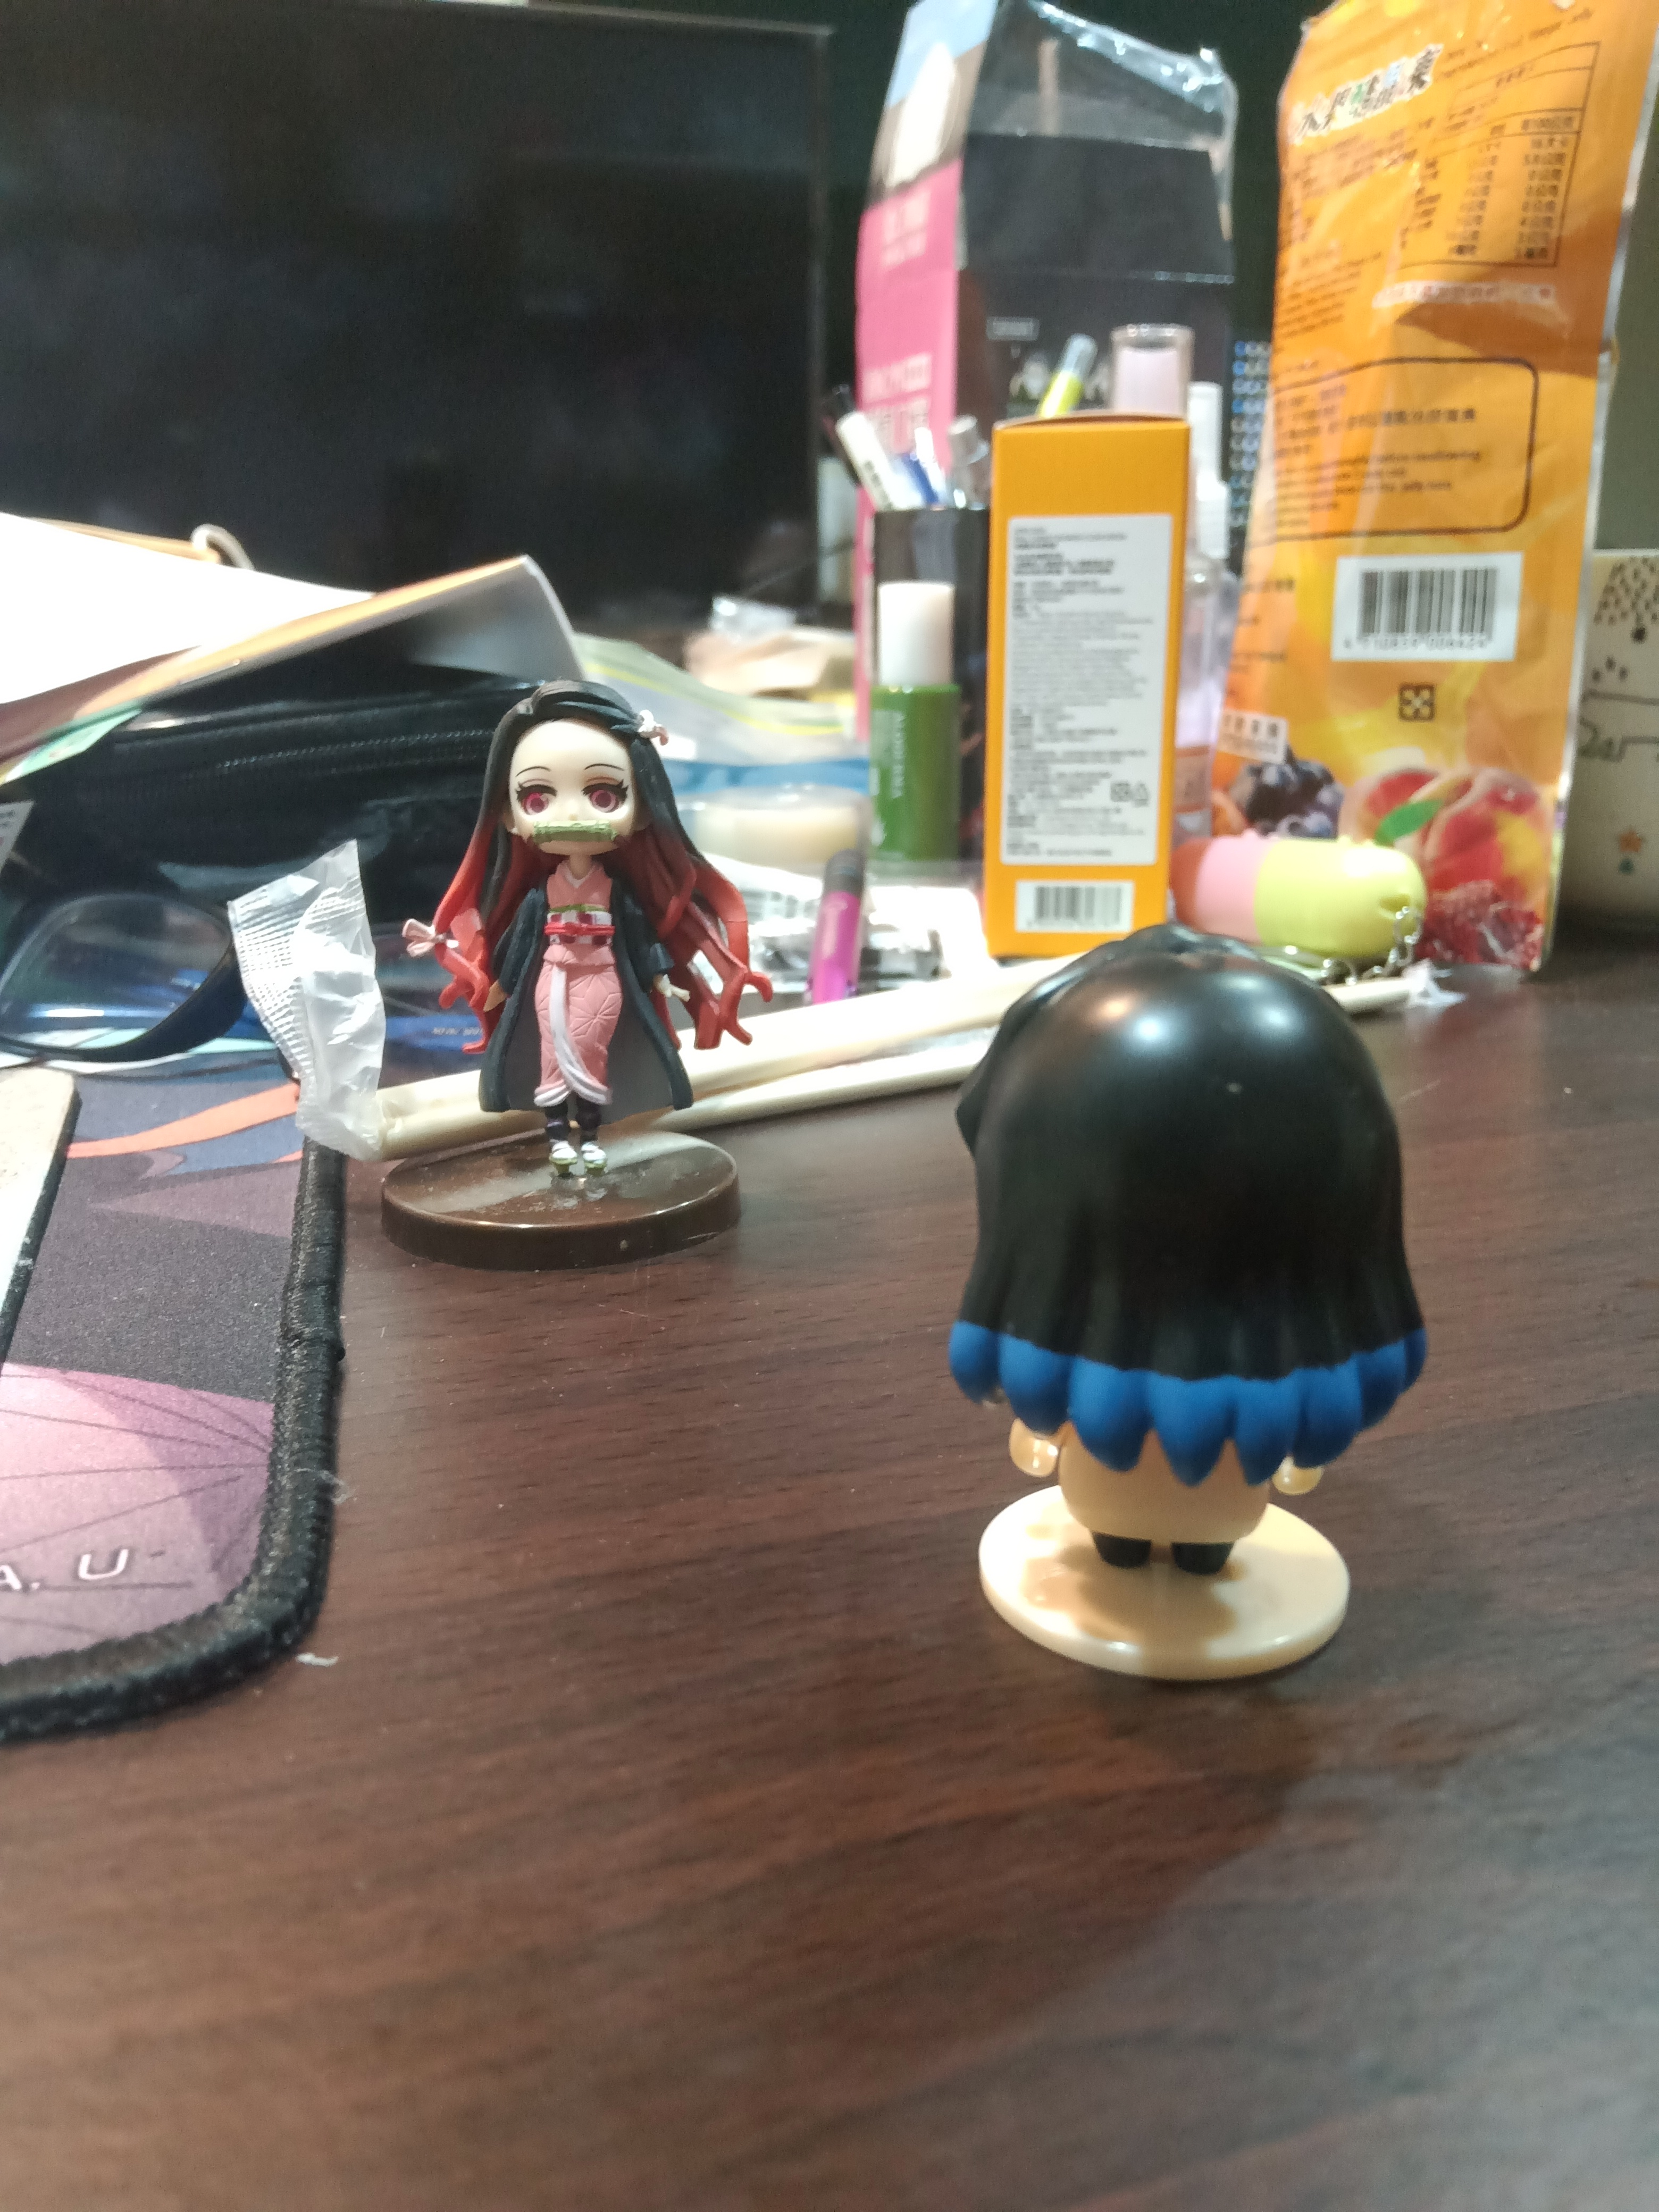Inosuke: (925, 918, 1443, 1703)
Nezuko: (366, 672, 782, 1280)
